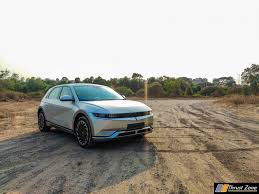Honda Ioniq: (34, 80, 162, 157)
